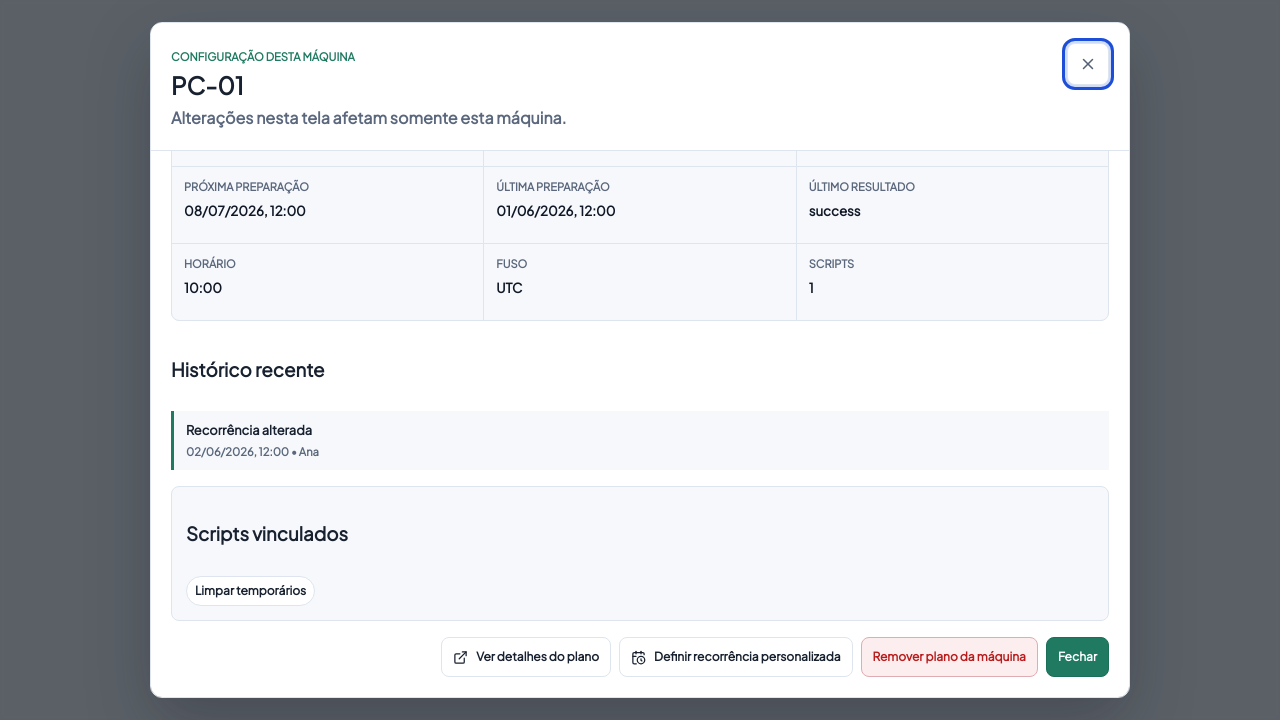
Test case: AutomationMachineDetails - recorrência personalizada › atualiza o painel com a resposta do salvamento
(page scrolled)
Check: the text "Recorrência alterada" is shown, box top-left (186, 422), bottom-right (312, 438)
Click the button "Definir recorrência personalizada" at x=736, y=657, box top-left (619, 637), bottom-right (853, 677)
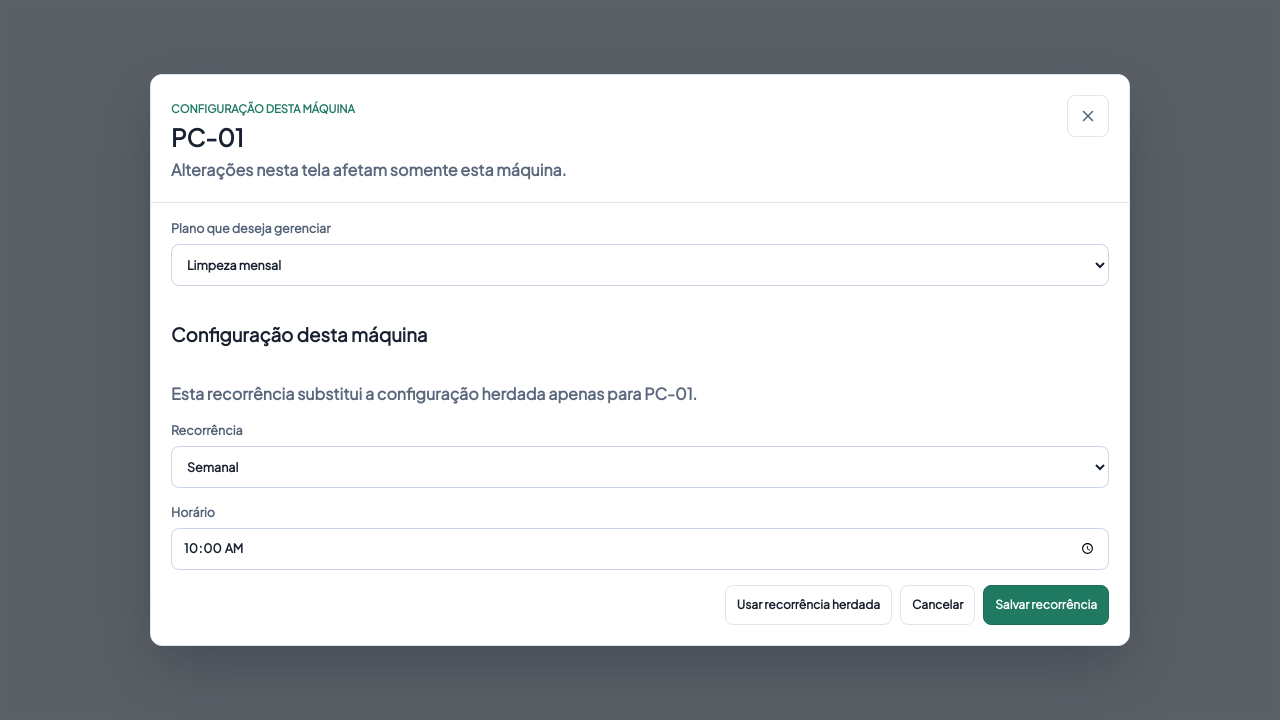
Click the button "Salvar recorrência" at x=1046, y=605, box top-left (983, 585), bottom-right (1109, 625)
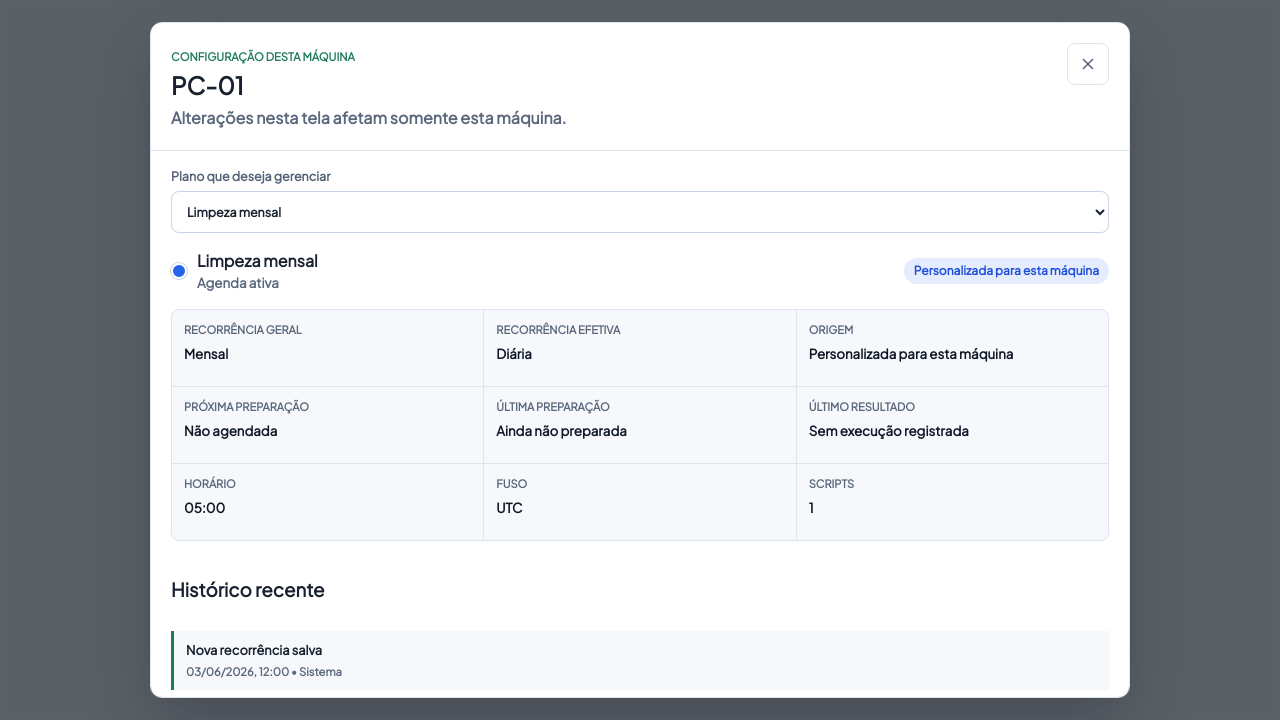
Check: the text "Nova recorrência salva" is shown, box top-left (186, 642), bottom-right (322, 658)
Check: the text "05:00" is shown, box top-left (184, 499), bottom-right (225, 516)
